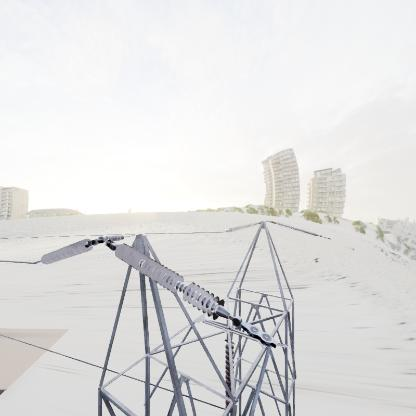insulator: (114, 239, 233, 321), (40, 236, 96, 265)
